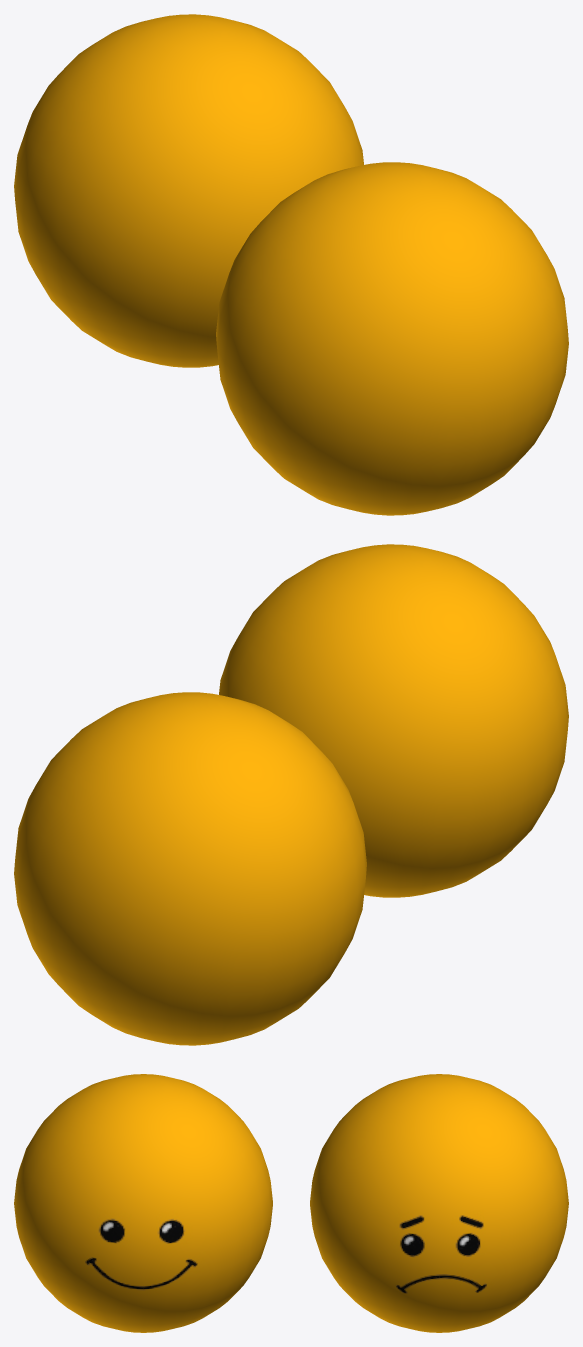
Rendered from Smiles.fbx.
3 views of the same model, one above another, from view 1: azimuth 30°, elevation 25°; view 2: azimuth 150°, elevation 25°; view 3: azimuth 270°, elevation 25° (orthographic). The views are drawn at different scales.
Parts seen in each view (by area): view 1: Sphere, Sphere.001; view 2: Sphere.001, Sphere; view 3: Sphere, Sphere.001.
Boxes of the visible parts, box(x1,y1,x2,y2) form: Sphere: box(216, 162, 568, 515); Sphere.001: box(14, 14, 363, 367); Sphere.001: box(14, 692, 366, 1045); Sphere: box(219, 544, 568, 897); Sphere: box(14, 1074, 272, 1332); Sphere.001: box(310, 1074, 568, 1332).
Size of the model in its own units: 35.24 by 35.24 by 75.47.
